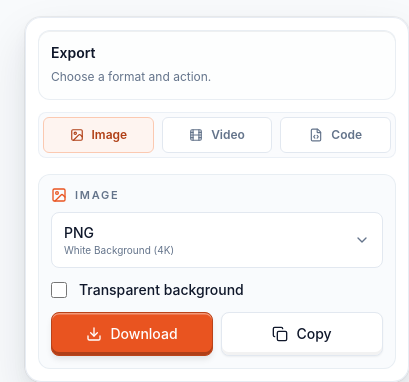
ExportMenuPanel › shows cinematic build options in the video section
The width and height of the screenshot is (409, 382).
(page scrolled)
Click the tab "Video" at {"x": 217, "y": 135}, box top-left (162, 117), bottom-right (272, 153)
(page scrolled)
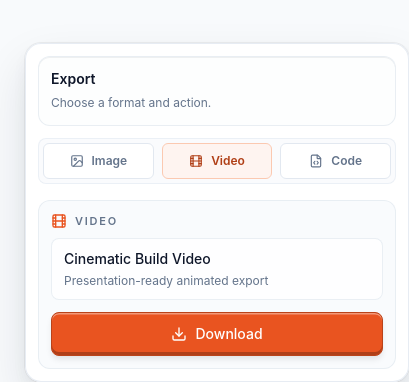
Check: the element with test id "export-format-summary" is shown, box top-left (51, 238), bottom-right (383, 300)
Check: the text "Cinematic Build Video" is shown, box top-left (64, 250), bottom-right (211, 266)
